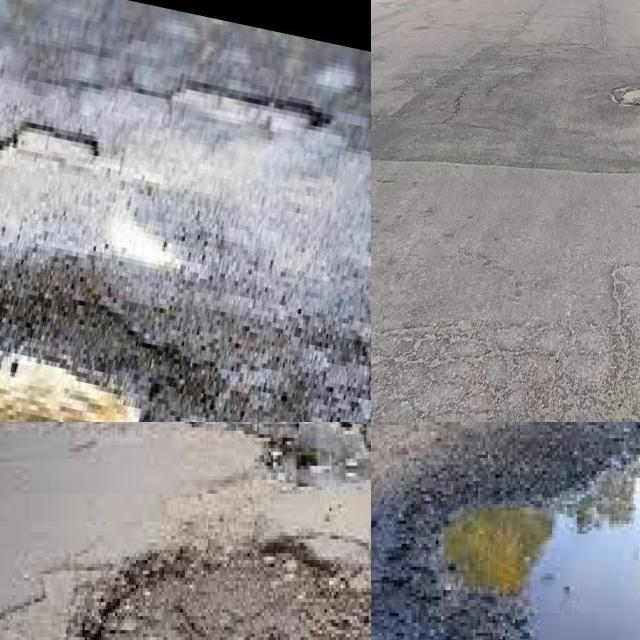Pothole: (438, 430, 640, 640), (0, 292, 222, 422), (100, 553, 371, 640), (160, 74, 348, 136), (200, 422, 371, 487), (0, 354, 140, 422), (95, 188, 192, 266), (0, 125, 95, 164), (618, 85, 640, 105)
